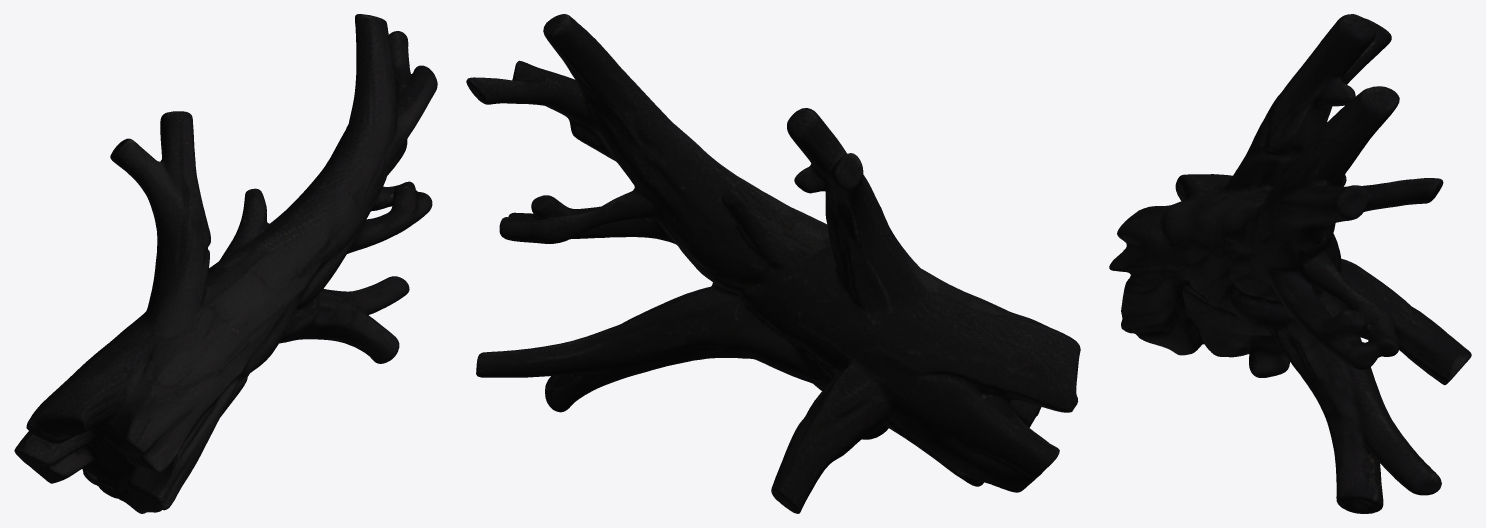
The model's file is FallenBranch_WetBurned.fbx.
The picture shows the model from 3 angles, left to right: view 1: azimuth 30°, elevation 25°; view 2: azimuth 150°, elevation 25°; view 3: azimuth 270°, elevation 25°; orthographic projection. The views are drawn at different scales.
Visible parts, largest first — view 1: mesh_node.006; view 2: mesh_node.006; view 3: mesh_node.006.
Boxes of the visible parts, x1,y1,x2,y2 form: mesh_node.006: [14, 14, 437, 513]; mesh_node.006: [466, 14, 1080, 513]; mesh_node.006: [1109, 14, 1471, 513].
Size of the model in its own units: 56.15 by 43.42 by 31.61.
